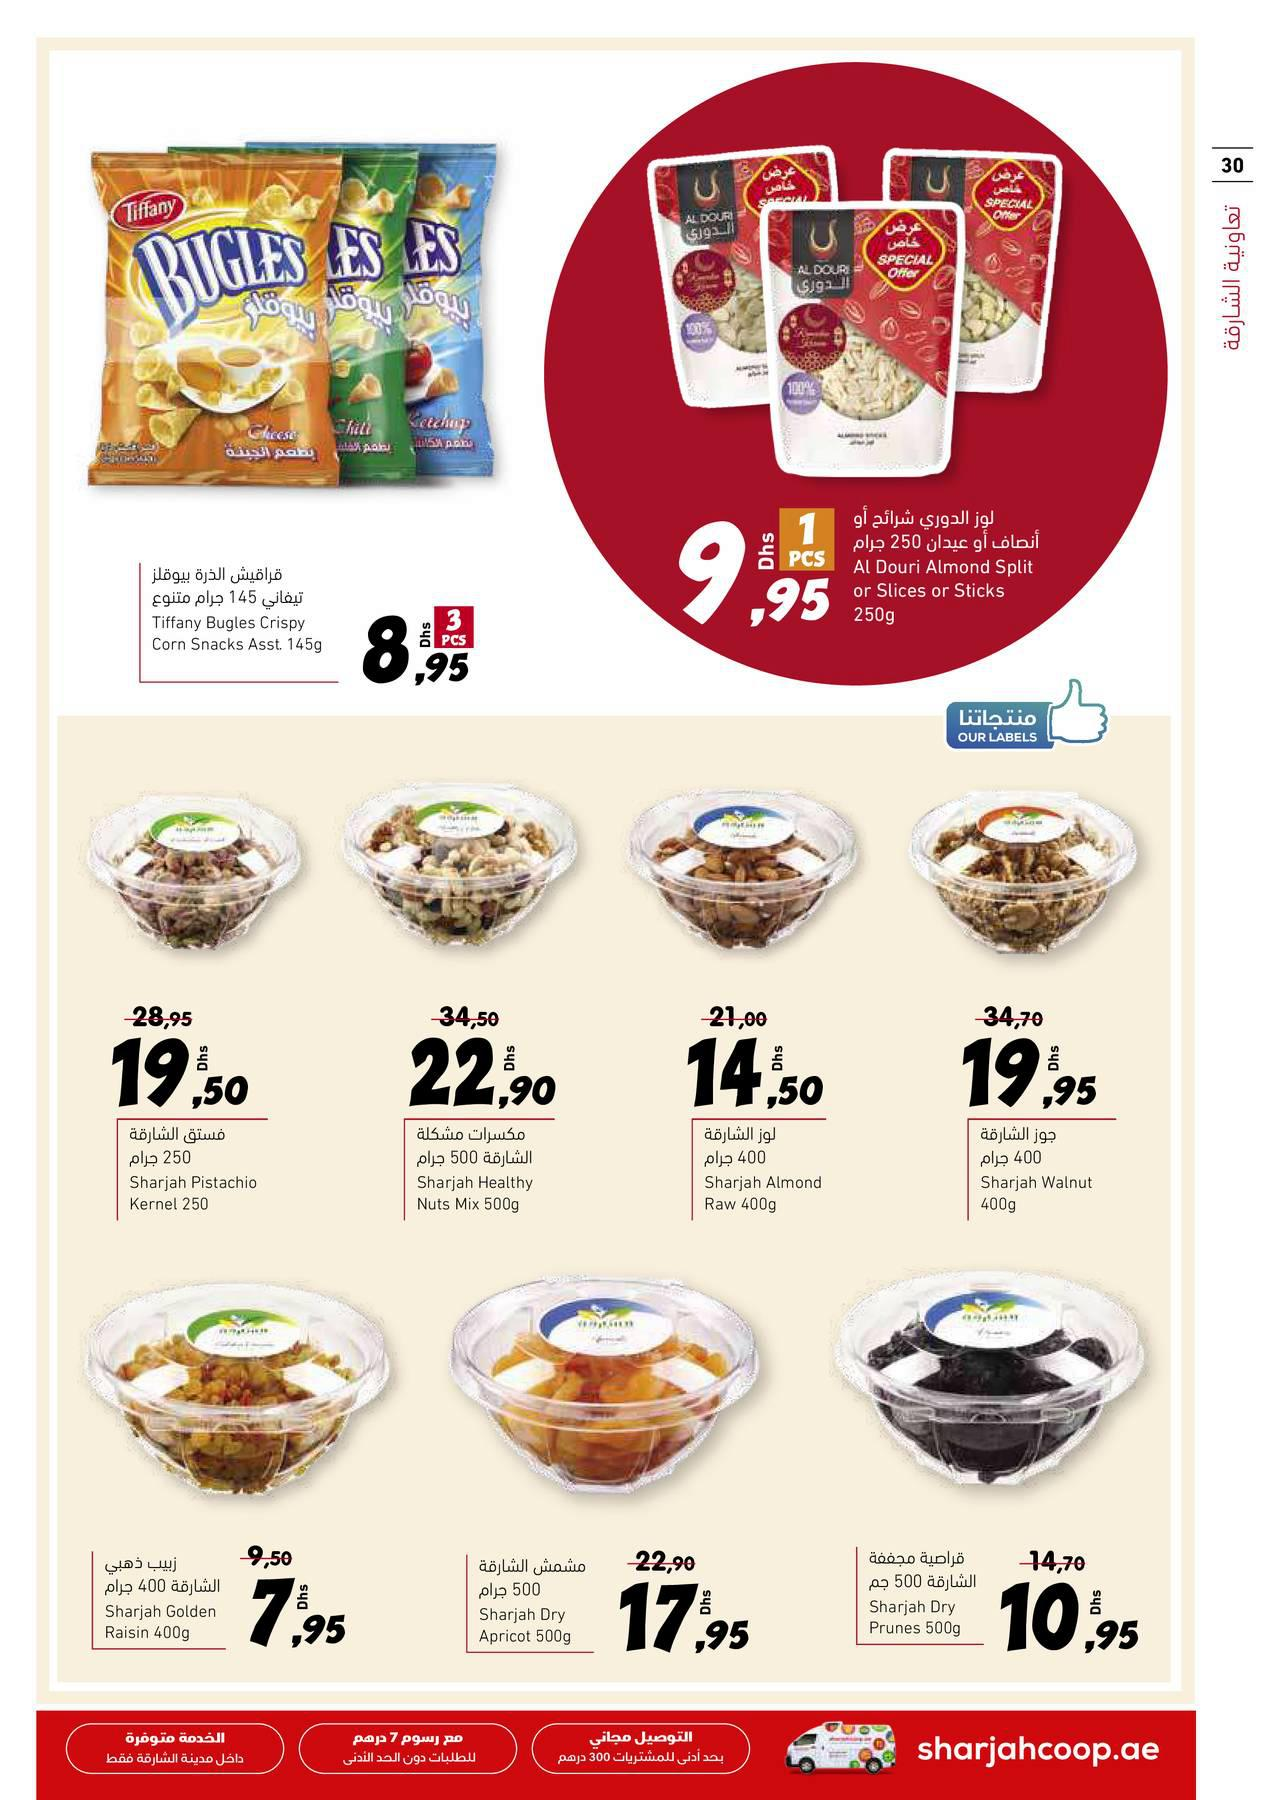text: (845, 499, 1055, 632), (143, 561, 331, 665), (693, 1120, 840, 1224), (123, 1120, 269, 1220), (409, 1120, 550, 1217), (96, 1549, 231, 1644), (973, 1122, 1101, 1219), (862, 1544, 984, 1642), (475, 1552, 597, 1649)
